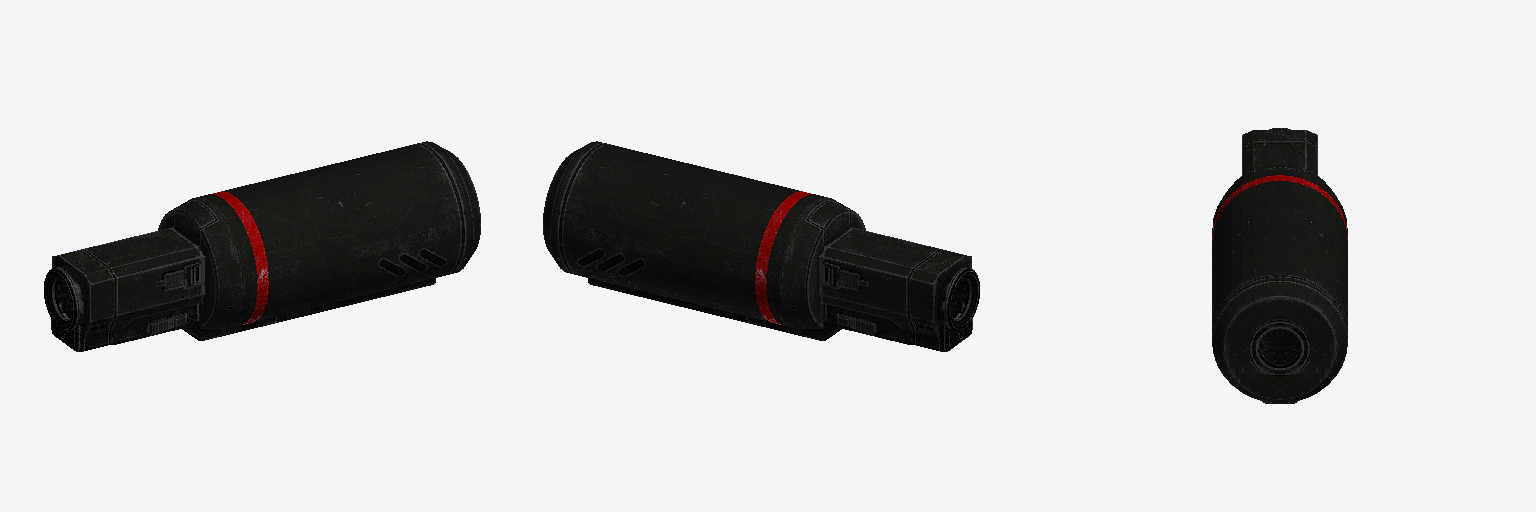
The picture shows the model from 3 angles: view 1: azimuth 30°, elevation 25°; view 2: azimuth 150°, elevation 25°; view 3: azimuth 270°, elevation 25°; orthographic projection.
Visible parts, largest first — view 1: unsc_barrel_silencer.001; view 2: unsc_barrel_silencer.001; view 3: unsc_barrel_silencer.001.
Boxes of the visible parts, x1=… form: unsc_barrel_silencer.001: x1=44, y1=141, x2=480, y2=351; unsc_barrel_silencer.001: x1=543, y1=141, x2=979, y2=351; unsc_barrel_silencer.001: x1=1212, y1=128, x2=1347, y2=403.
Bounding box in the file's own units: 0.1364 × 0.043 × 0.0406.
Materials: 1 (1 with a texture image).